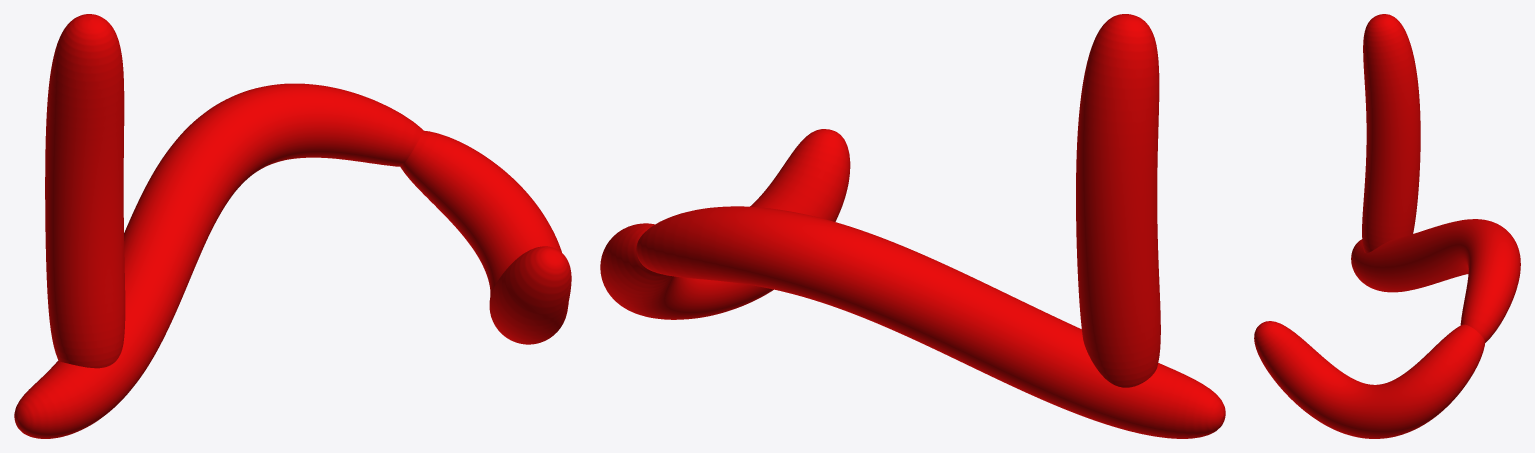
The model's file is Figure_36.fbx.
The picture shows the model from 3 angles, left to right: view 1: azimuth 30°, elevation 25°; view 2: azimuth 150°, elevation 25°; view 3: azimuth 270°, elevation 25°; orthographic projection. The views are drawn at different scales.
Parts seen in each view (by area): view 1: Figure_36; view 2: Figure_36; view 3: Figure_36.
Part boxes in pixels (x1,y1,x2,y2): Figure_36: (14,14,571,438); Figure_36: (600,14,1225,438); Figure_36: (1254,14,1520,438).
Bounding box in the file's own units: 97.6 × 66.96 × 58.49.
